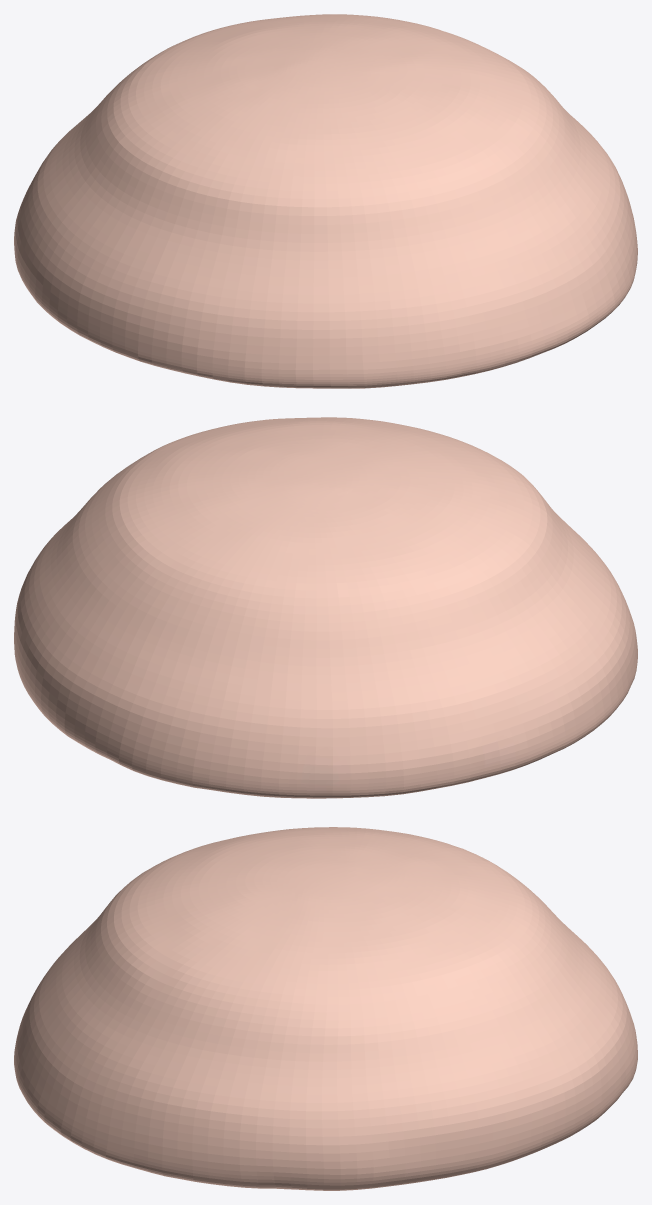
The model's file is topCopper.gltf.
The picture shows the model from 3 angles, top to bottom: view 1: azimuth 30°, elevation 25°; view 2: azimuth 150°, elevation 25°; view 3: azimuth 270°, elevation 25°; orthographic projection. The views are drawn at different scales.
Parts seen in each view (by area): view 1: Retopo_middle-top.002; view 2: Retopo_middle-top.002; view 3: Retopo_middle-top.002.
Part boxes in pixels (x1,y1,x2,y2): Retopo_middle-top.002: (14, 14, 637, 388); Retopo_middle-top.002: (14, 417, 637, 798); Retopo_middle-top.002: (14, 827, 637, 1190).
Size of the model in its own units: 4.8 by 1.65 by 4.88.
1 material, 1 textured.
